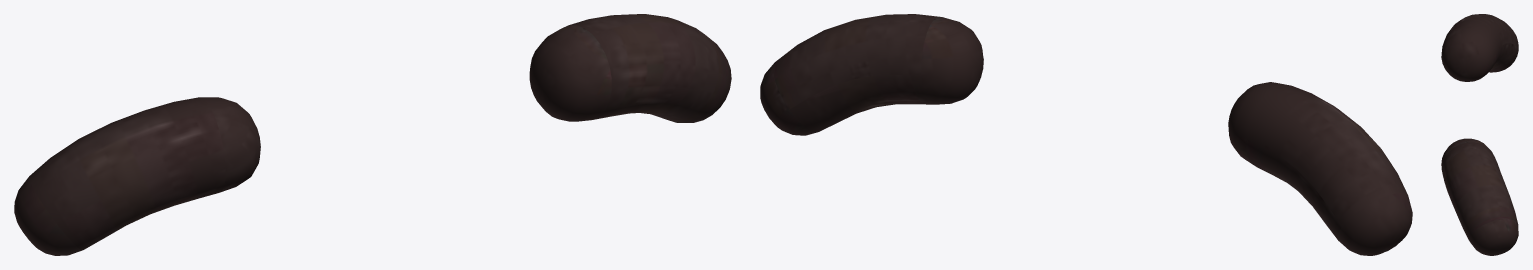
File: eyebrows2.glb
The picture shows the model from 3 angles, left to right: view 1: azimuth 30°, elevation 25°; view 2: azimuth 150°, elevation 25°; view 3: azimuth 270°, elevation 25°; orthographic projection. The views are drawn at different scales.
Parts seen in each view (by area): view 1: eyebrows.002; view 2: eyebrows.002; view 3: eyebrows.002.
Part boxes in pixels (x1,y1,x2,y2): eyebrows.002: (14,14,731,255); eyebrows.002: (760,14,1412,255); eyebrows.002: (1441,14,1518,255).
Size of the model in its own units: 0.7745 by 0.1632 by 0.1302.
1 material, 1 textured.
